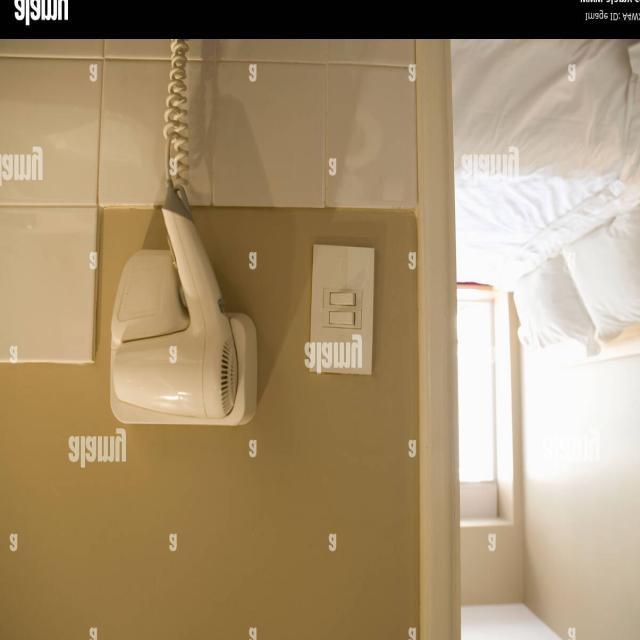dryer: (91, 73, 281, 450), (105, 187, 266, 429)
